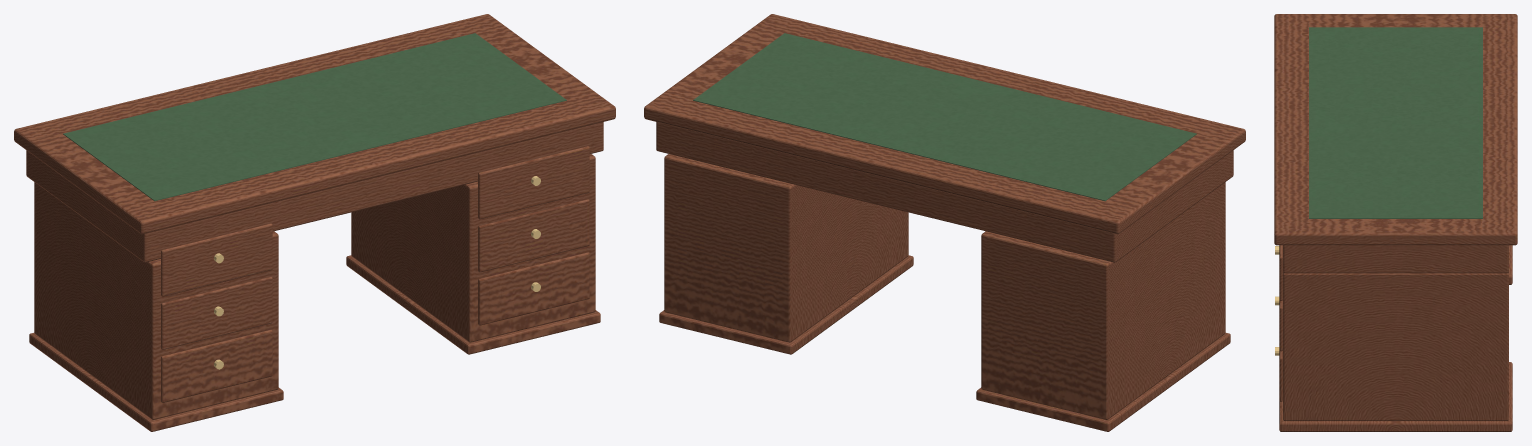
File: desk.glb
3 renders of one model, left to right at view 1: azimuth 30°, elevation 25°; view 2: azimuth 150°, elevation 25°; view 3: azimuth 270°, elevation 25°, orthographic. The views are drawn at different scales.
Visible parts, largest first — view 1: desk; view 2: desk; view 3: desk.
Part boxes in pixels (bbox=[...]): desk: bbox=[14, 14, 615, 431]; desk: bbox=[644, 14, 1245, 431]; desk: bbox=[1274, 14, 1517, 431].
Size of the model in its own units: 30 by 13.04 by 14.
Materials: 1 (1 with a texture image).
